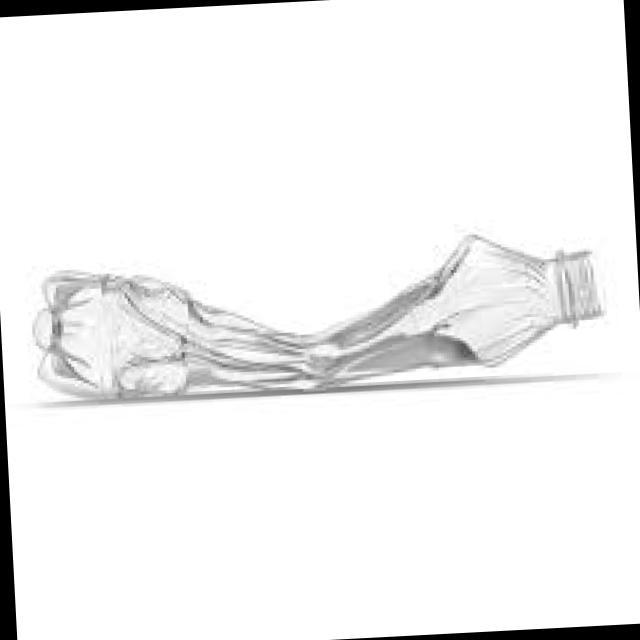defected: (20, 207, 619, 430)
